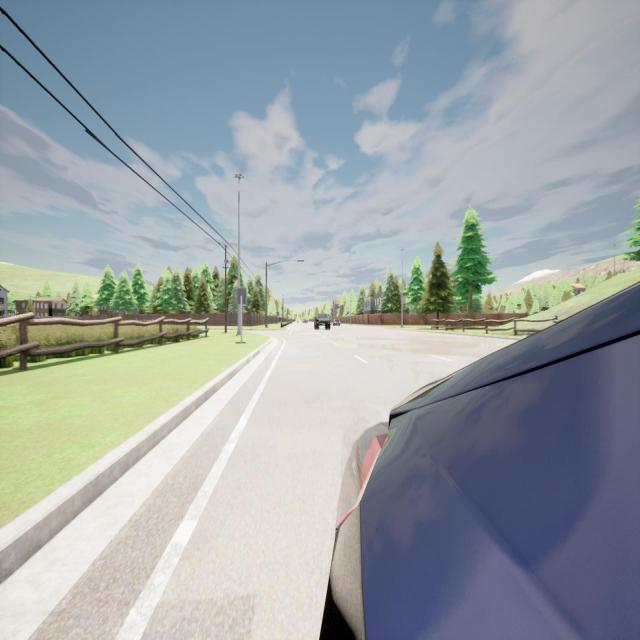Traffic_Signs: (237, 288, 247, 304)
Vehicle: (331, 283, 639, 637), (314, 312, 330, 330), (332, 319, 340, 326), (302, 319, 308, 323), (310, 317, 314, 322)
